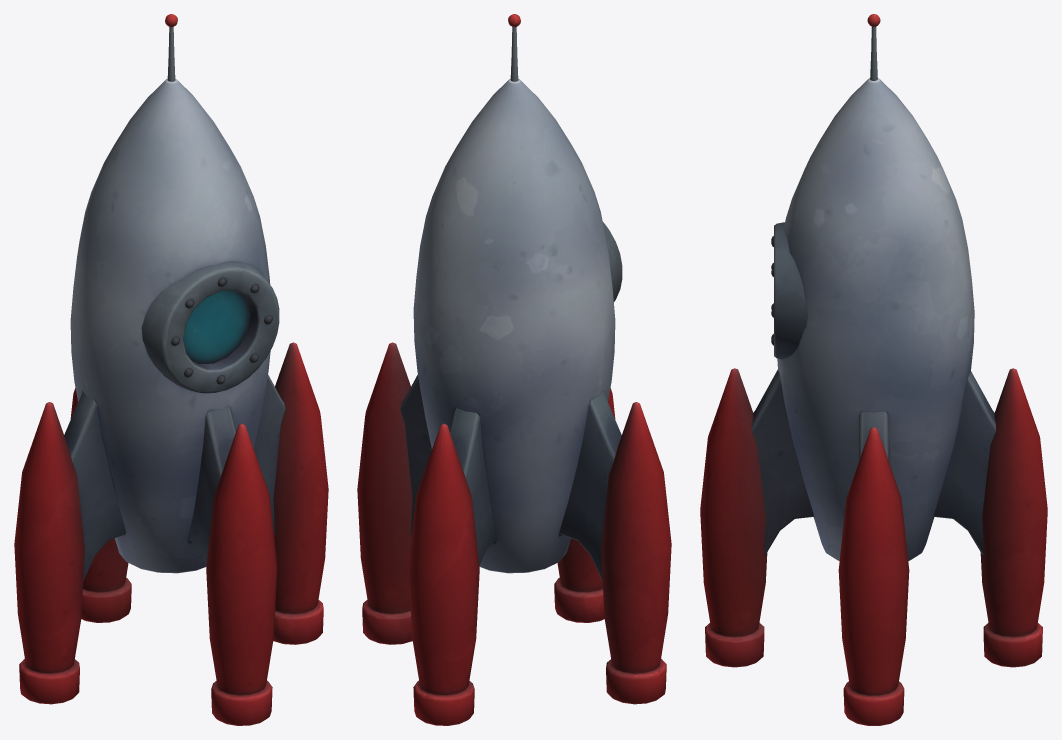
Rendered from Rocket_C_Color1.fbx.
The picture shows the model from 3 angles, left to right: view 1: azimuth 30°, elevation 25°; view 2: azimuth 150°, elevation 25°; view 3: azimuth 270°, elevation 25°; orthographic projection.
Visible parts, largest first — view 1: Rocket_C_Color1; view 2: Rocket_C_Color1; view 3: Rocket_C_Color1.
Part boxes in pixels (x1,y1,x2,y2): Rocket_C_Color1: (14, 14, 328, 725); Rocket_C_Color1: (357, 14, 671, 725); Rocket_C_Color1: (700, 14, 1047, 725).
Size of the model in its own units: 665 by 1356 by 665.
